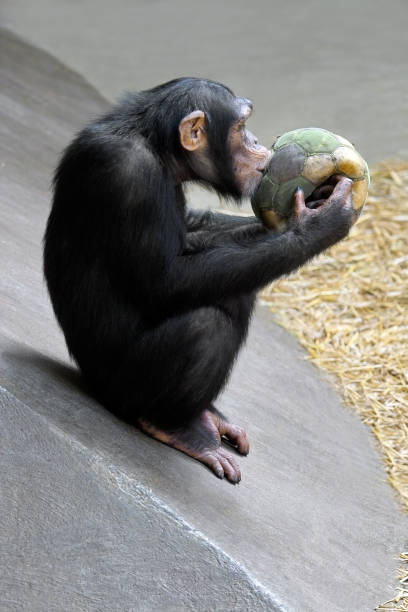chimpanzee: (154, 60, 264, 212)
